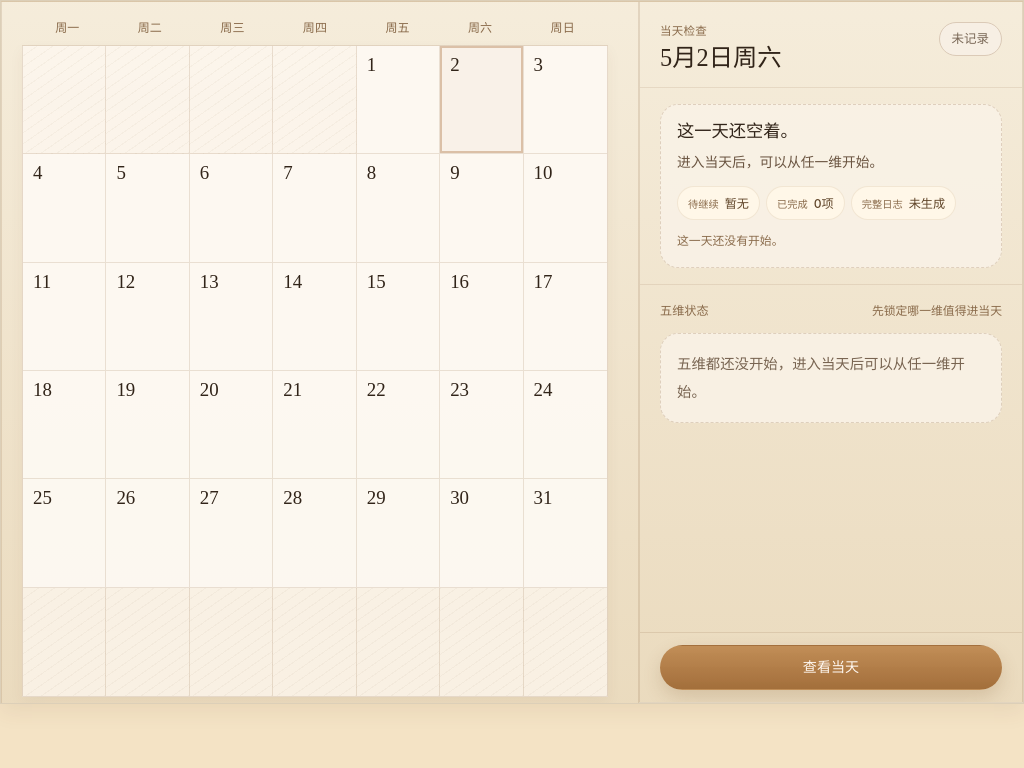
Test: calendar month shell › updates the url and panel immediately when selecting another day without refetching the month
Click the button with test id "calendar-day-2026-05-03". click: click(565, 100)
box: [524,46,607,154]
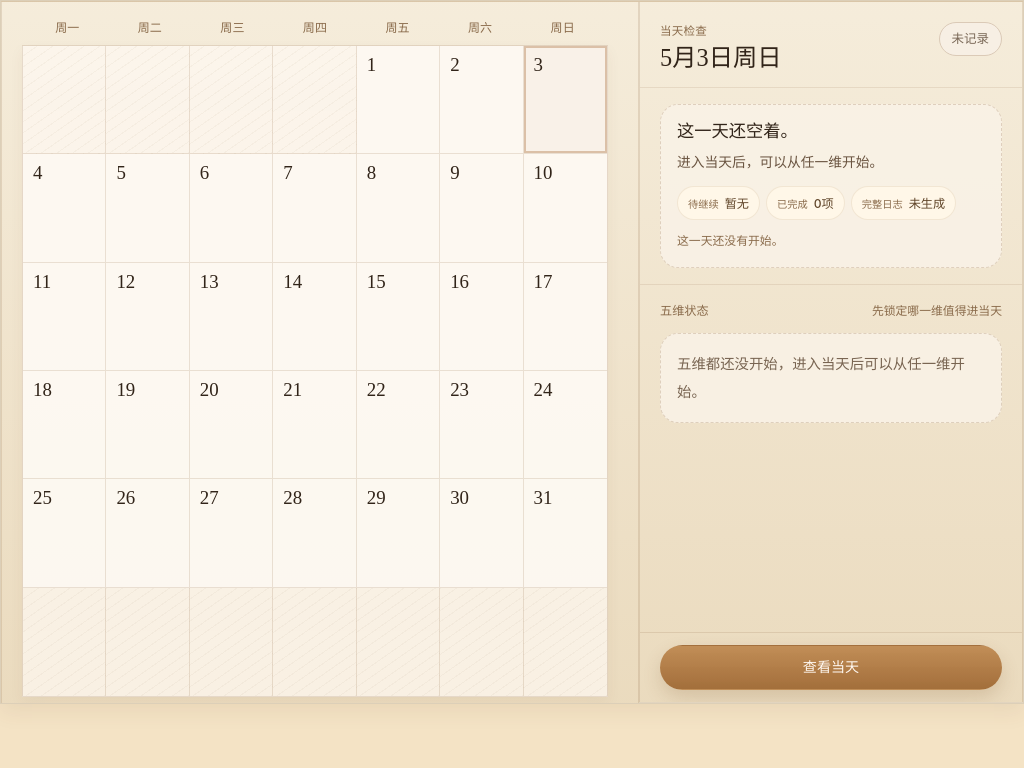
Result: the heading "5月3日" is shown at [660,46,782,71]
